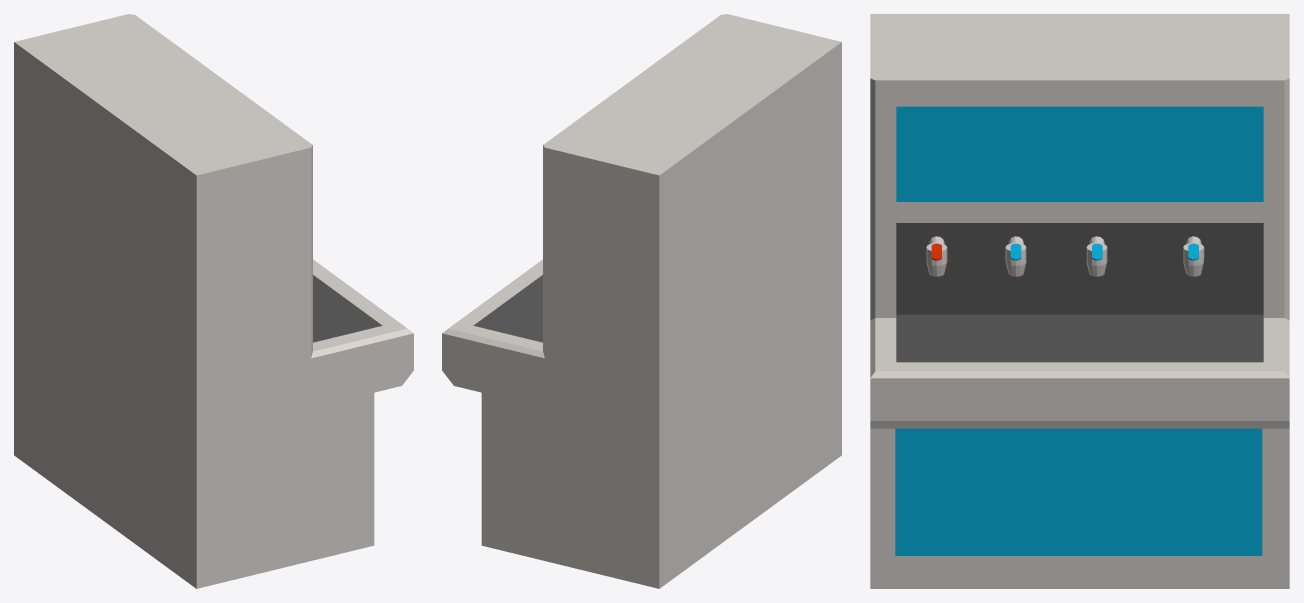
The model's file is Water purifier.fbx.
3 renders of one model, left to right at view 1: azimuth 30°, elevation 25°; view 2: azimuth 150°, elevation 25°; view 3: azimuth 270°, elevation 25°, orthographic. The views are drawn at different scales.
Visible parts, largest first — view 1: Water purifier.001; view 2: Water purifier.001; view 3: Water purifier.001.
Part boxes in pixels (box(x1,y1,x2,y2)): Water purifier.001: box(14, 14, 413, 588); Water purifier.001: box(442, 14, 841, 588); Water purifier.001: box(870, 14, 1289, 588).
Size of the model in its own units: 5500 by 10000 by 8000.
